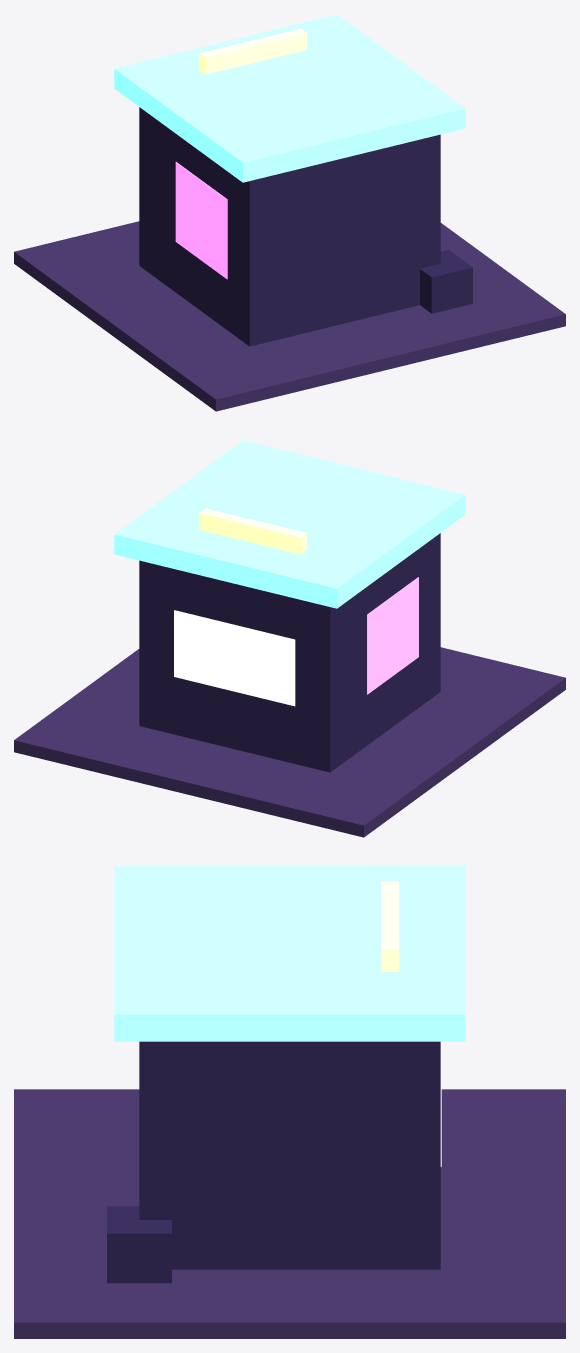
File: 04_neon_corner_kiosk.glb
3 renders of one model, top to bottom at view 1: azimuth 30°, elevation 25°; view 2: azimuth 150°, elevation 25°; view 3: azimuth 270°, elevation 25°, orthographic. The views are drawn at different scales.
Parts seen in each view (by area): view 1: kiosk_1, ground_0, roof_trim_2, side_display_4, crate_6, sign_5; view 2: ground_0, kiosk_1, roof_trim_2, front_window_3, side_display_4, sign_5; view 3: ground_0, kiosk_1, roof_trim_2, crate_6, sign_5.
Boxes of the visible parts, box(x1,y1,x2,y2) form: kiosk_1: box(139, 107, 440, 346); ground_0: box(14, 221, 565, 411); roof_trim_2: box(114, 14, 465, 182); side_display_4: box(175, 162, 227, 279); crate_6: box(420, 250, 472, 313); sign_5: box(199, 28, 307, 74); ground_0: box(14, 647, 565, 837); kiosk_1: box(139, 533, 440, 772); roof_trim_2: box(114, 440, 465, 608); front_window_3: box(174, 610, 295, 706); side_display_4: box(367, 577, 418, 694); sign_5: box(199, 508, 307, 554); ground_0: box(14, 1089, 565, 1338); kiosk_1: box(139, 1041, 440, 1269); roof_trim_2: box(114, 866, 465, 1041); crate_6: box(107, 1206, 171, 1283); sign_5: box(381, 881, 399, 971).
Bounding box in the file's own units: 5.5 × 3.38 × 5.5.
